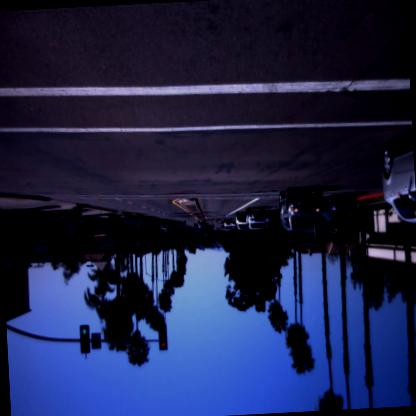trafficlight: (77, 320, 91, 356), (156, 318, 170, 352)
